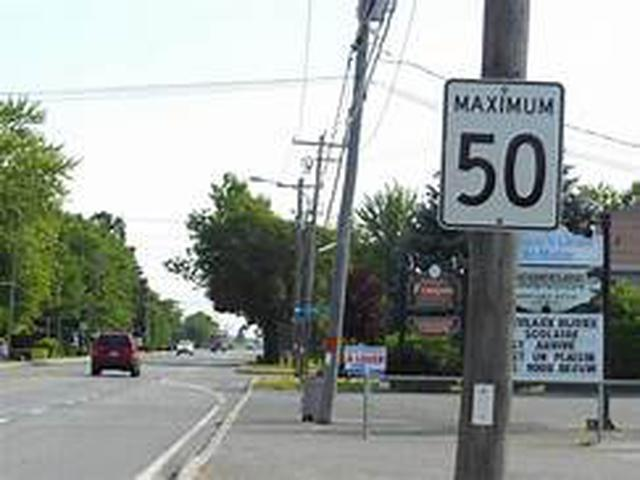vitesse: (436, 76, 567, 233)
